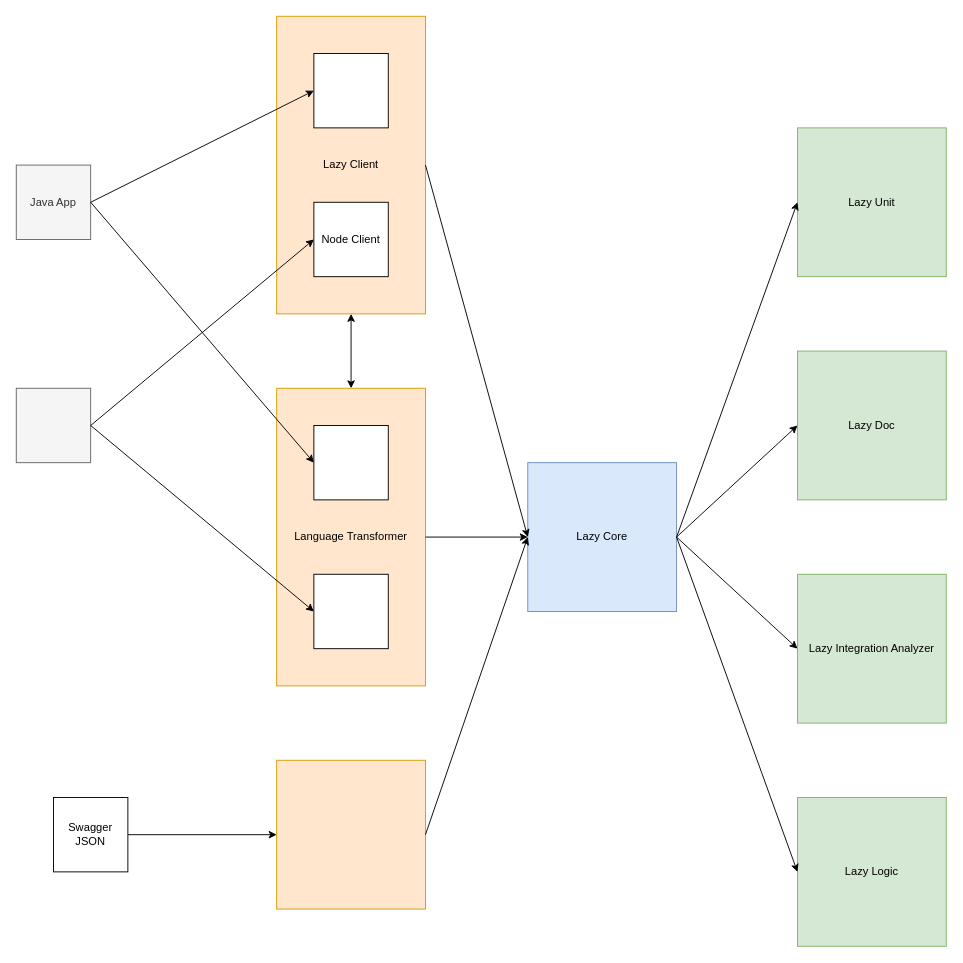
This 963x963 diagram has some shape labels left out. Here are the shapes that lost their labels. From the top down, the centre of each, then its label:
the point at 350,90: Java Client
the point at 53,425: Node App
the point at 350,462: Java Transformer
the point at 350,611: Node Transformer
the point at 350,834: Swagger Transformer
